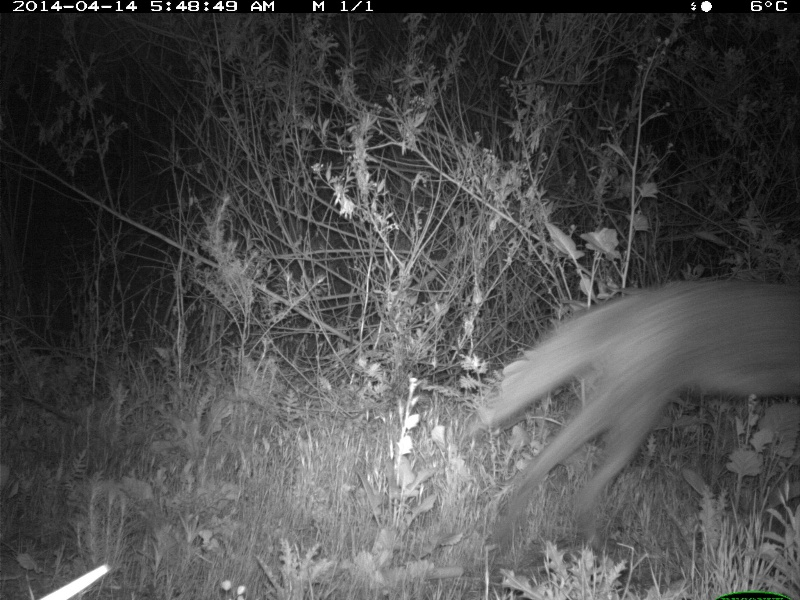coyote: (475, 275, 800, 523)
